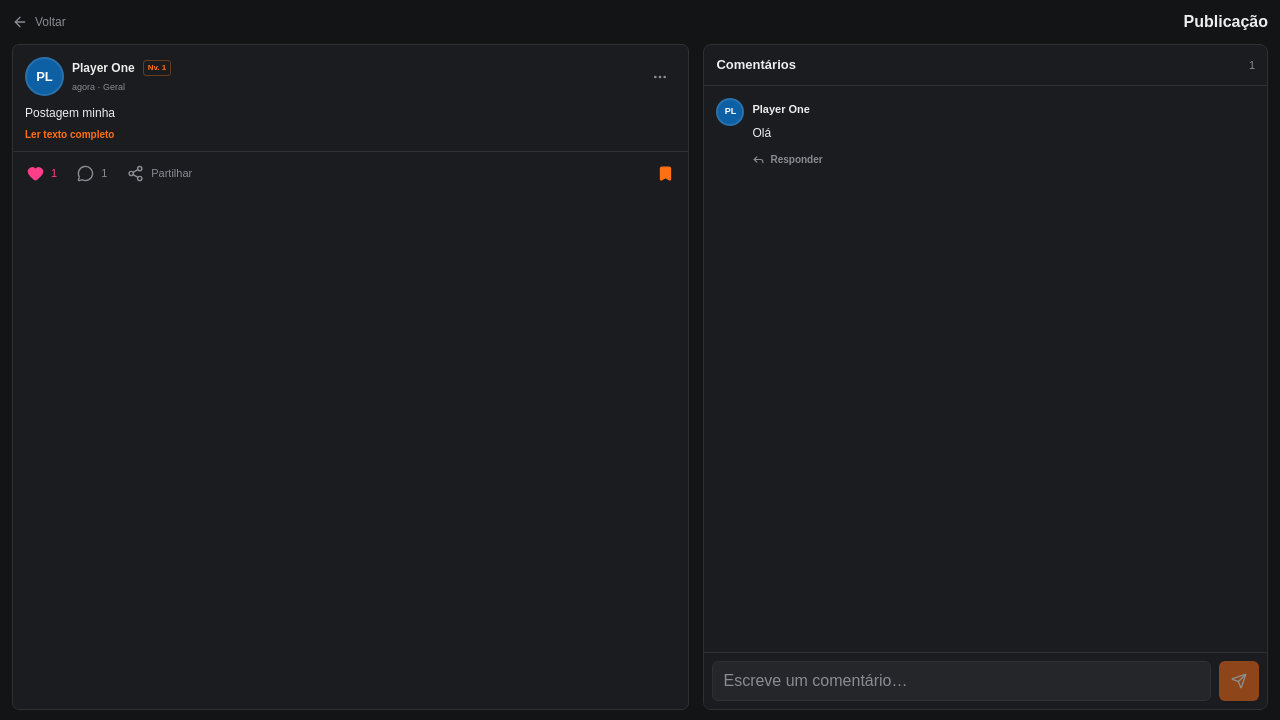
it: only deletes own posts after confirmation and removes related bookmarks and comments
This screenshot has width=1280, height=720.
Press Enter in the button named "Opções da publicação", box [644, 60, 676, 92]
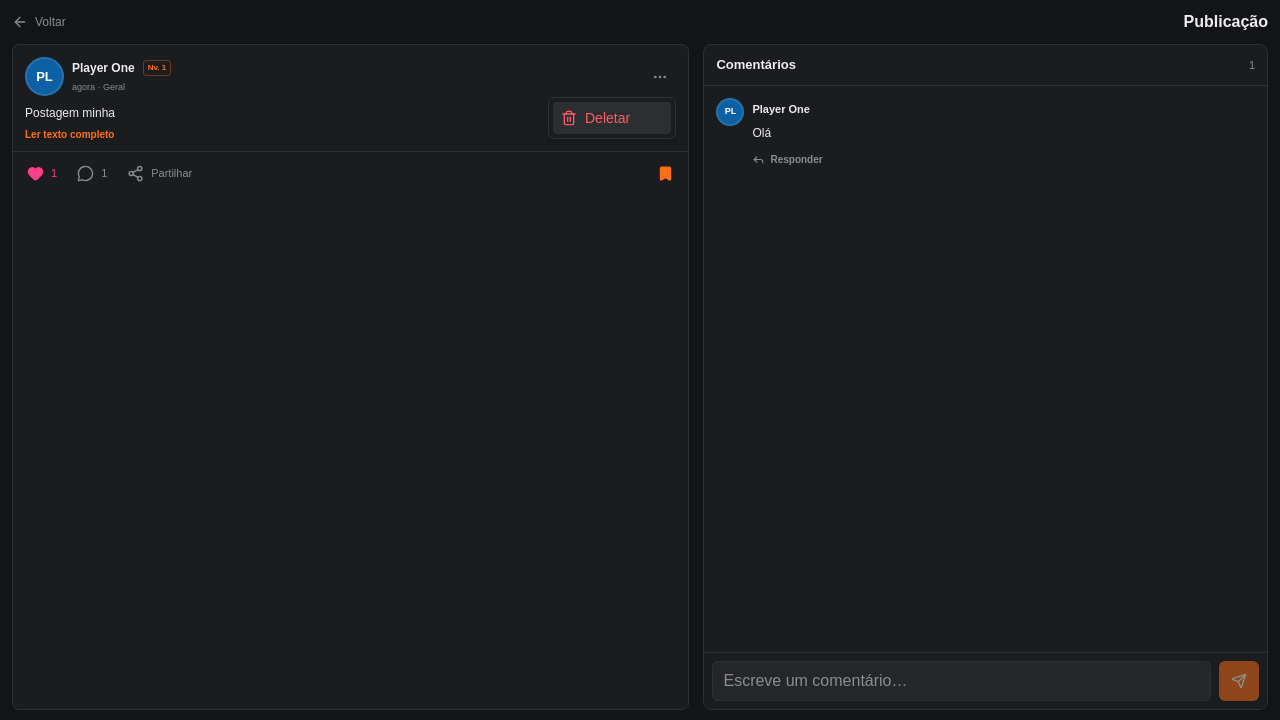
Click the menu item "Deletar": (612, 118) [553, 102, 671, 134]
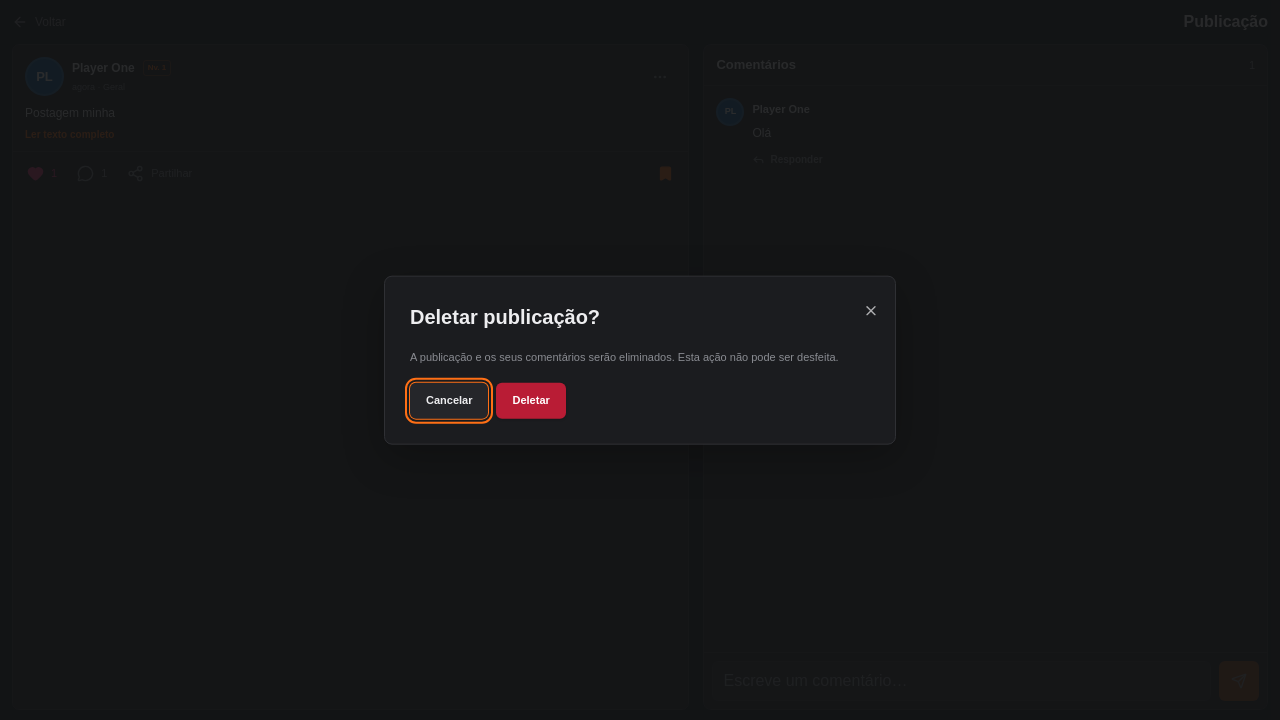
Click the button "Cancelar": (449, 400) [410, 382, 488, 418]
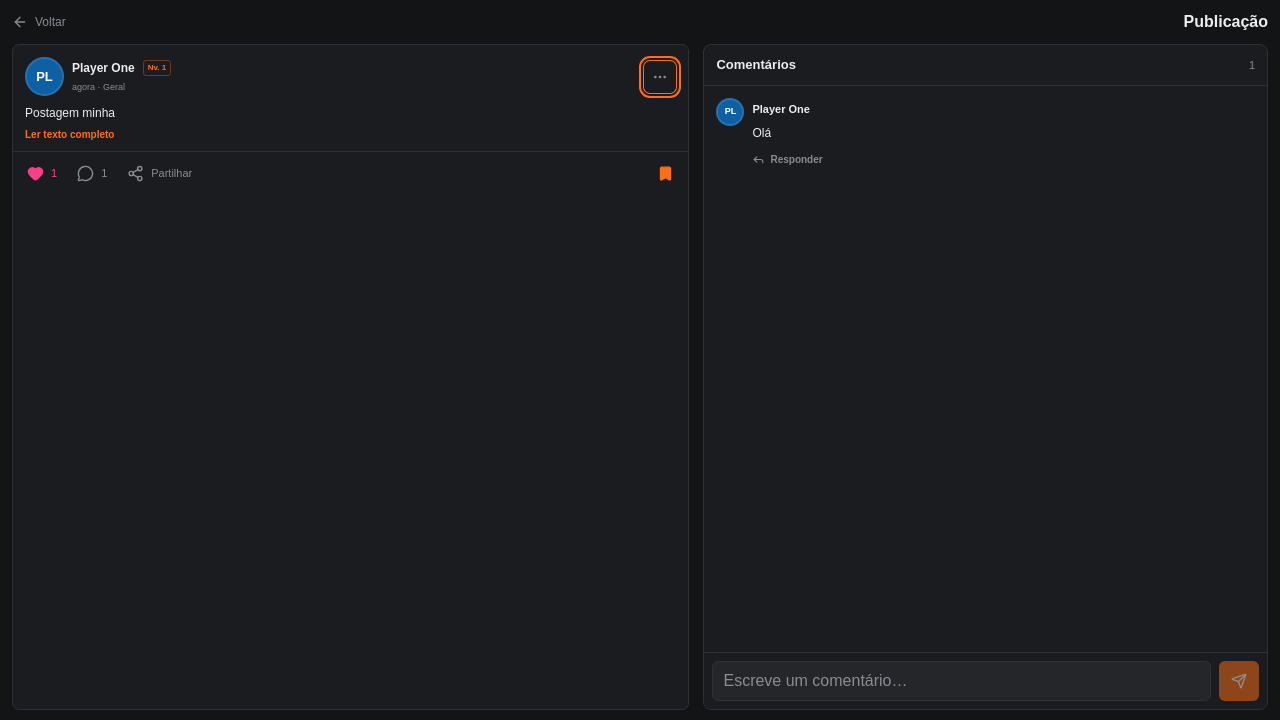
Expected: the text "Postagem minha" is shown, [25, 106, 115, 120]
Press Enter in the button named "Opções da publicação", box [644, 60, 676, 92]
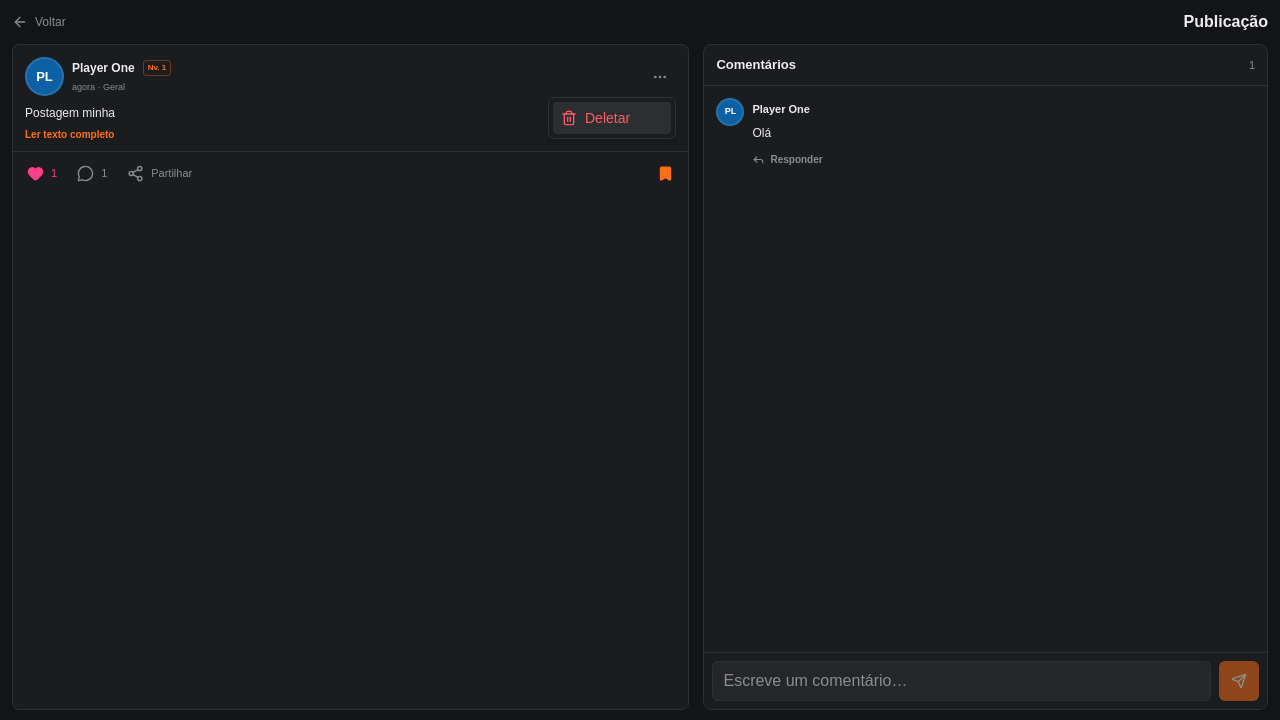
Click the menu item "Deletar": (612, 118) [553, 102, 671, 134]
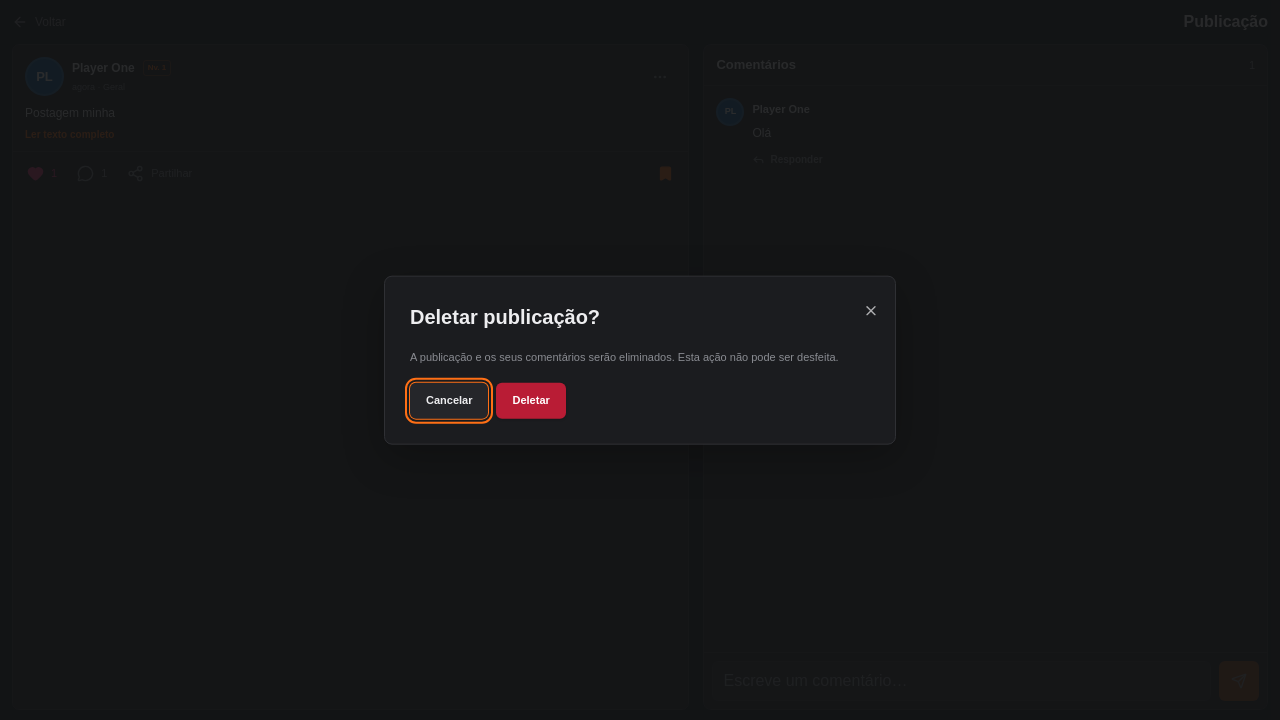
Click the button "Deletar": (531, 400) [496, 382, 566, 418]
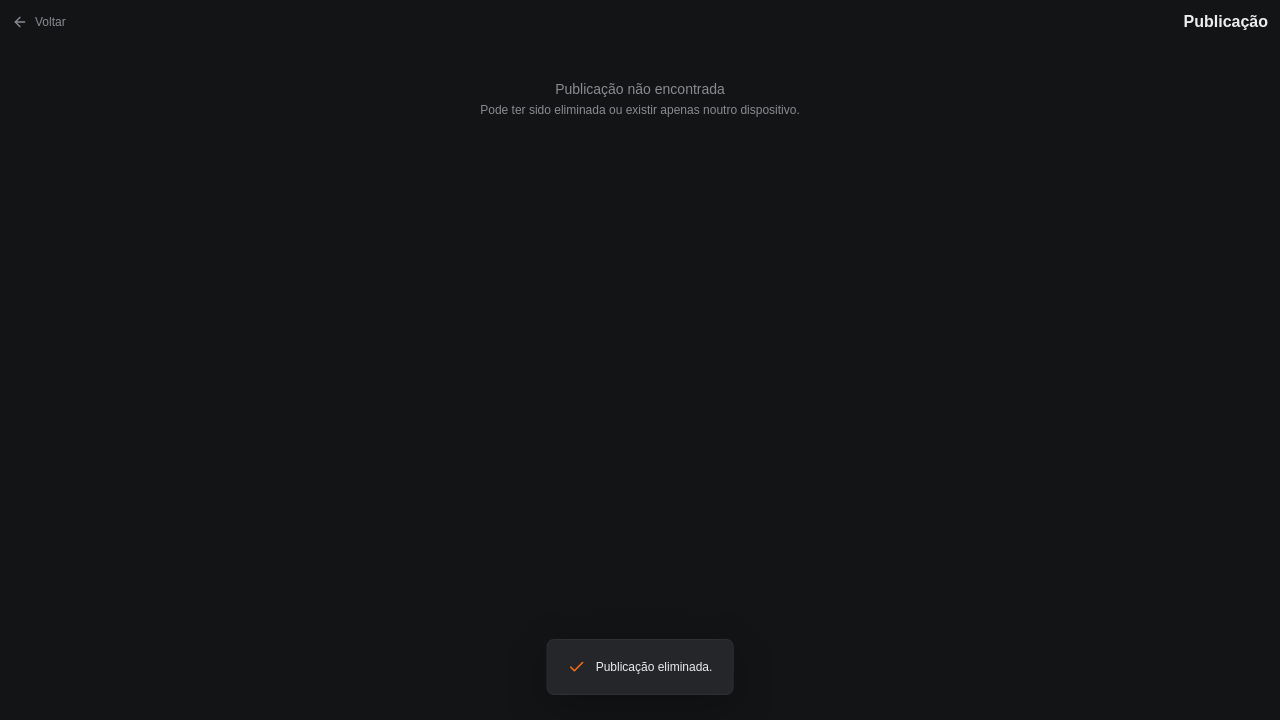
Result: the heading "Publicação não encontrada" is shown at [555, 81, 725, 97]
